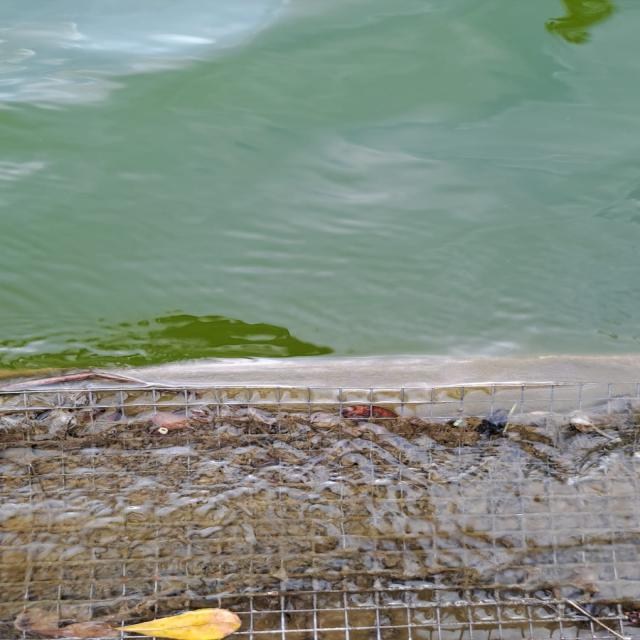Ponds: (1, 1, 640, 468)
